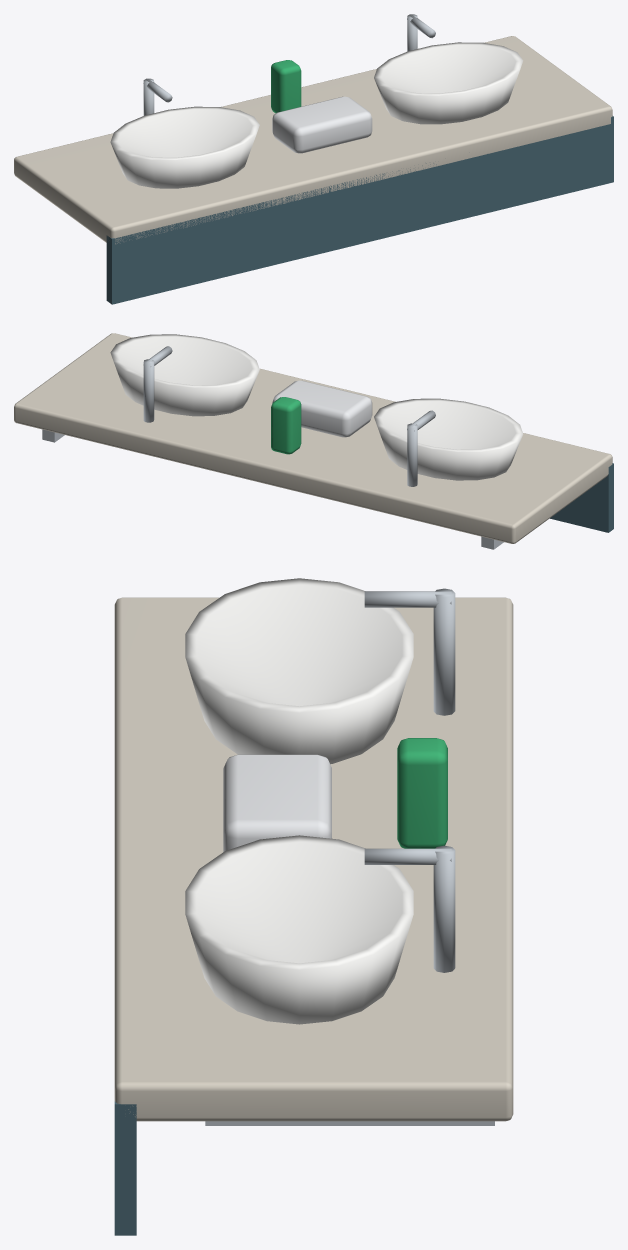
The model's file is BathroomSinks.fbx.
3 renders of one model, top to bottom at view 1: azimuth 30°, elevation 25°; view 2: azimuth 150°, elevation 25°; view 3: azimuth 270°, elevation 25°, orthographic. The views are drawn at different scales.
Visible parts, largest first — view 1: BathroomSinksBody; view 2: BathroomSinksBody; view 3: BathroomSinksBody.
Part boxes in pixels (box(x1,y1,x2,y2)): BathroomSinksBody: box(14, 14, 613, 304); BathroomSinksBody: box(14, 333, 613, 549); BathroomSinksBody: box(114, 578, 513, 1235).
Size of the model in its own units: 1.6 by 0.412 by 0.55.
